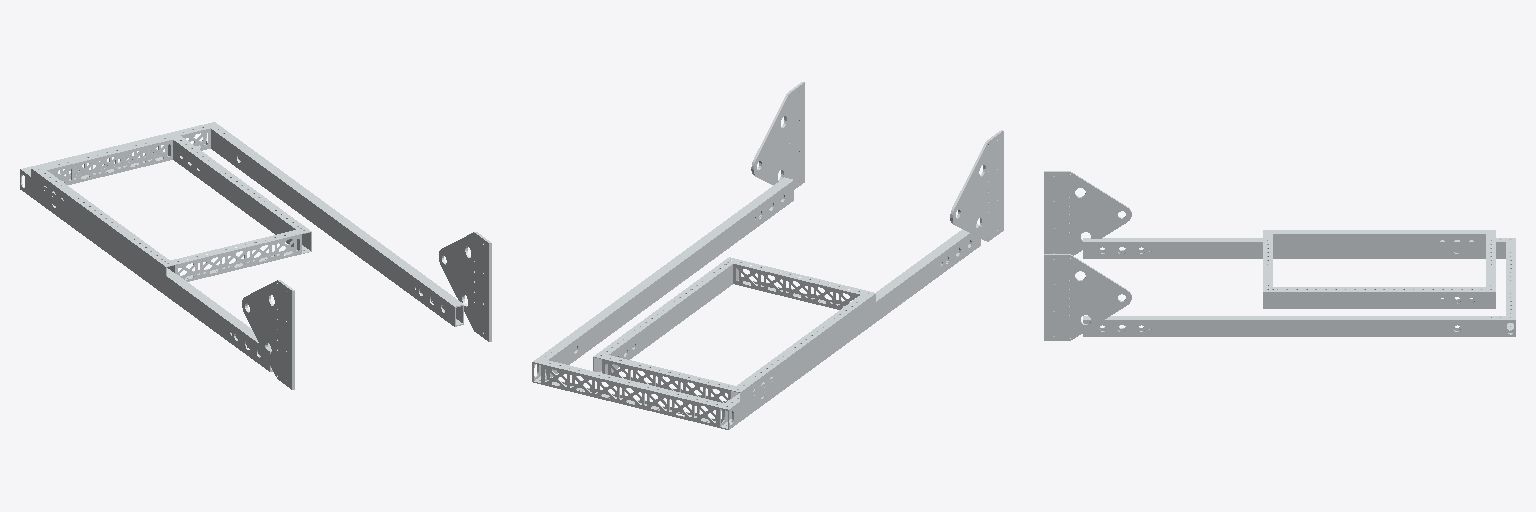
The robot description file, URDF, robot "Programming_Kinematics":
<?xml version="1.0" encoding="utf-8"?>
<!-- This URDF was automatically created by SolidWorks to URDF Exporter! Originally created by [author] ([email redacted]) 
     Commit Version: 1.6.0-4-g7f85cfe  Build Version: 1.6.7995.38578
     For more information, please see http://wiki.ros.org/sw_urdf_exporter -->
<robot
  name="Programming_Kinematics">
  <link
    name="base_link">
    <inertial>
      <origin
        xyz="-2.1853E-17 8.4117E-19 0.0848"
        rpy="0 0 0" />
      <mass
        value="1.2701" />
      <inertia
        ixx="0.0087772"
        ixy="5.9336E-21"
        ixz="2.1031E-19"
        iyy="0.0040745"
        iyz="2.0072E-05"
        izz="0.0047112" />
    </inertial>
    <visual>
      <origin
        xyz="0 0 0"
        rpy="0 0 0" />
      <geometry>
        <mesh
          filename="package://Programming_Kinematics/meshes/base_link.STL" />
      </geometry>
      <material
        name="">
        <color
          rgba="0.89804 0.91765 0.92941 1" />
      </material>
    </visual>
    <collision>
      <origin
        xyz="0 0 0"
        rpy="0 0 0" />
      <geometry>
        <mesh
          filename="package://Programming_Kinematics/meshes/base_link.STL" />
      </geometry>
    </collision>
  </link>
  <link
    name="main_mast">
    <inertial>
      <origin
        xyz="1.1158E-06 -9.0689E-05 0.46516"
        rpy="0 0 0" />
      <mass
        value="2.6303" />
      <inertia
        ixx="0.27136"
        ixy="-2.6617E-10"
        ixz="1.1486E-06"
        iyy="0.27079"
        iyz="-0.00010405"
        izz="0.0010919" />
    </inertial>
    <visual>
      <origin
        xyz="0 0 0"
        rpy="0 0 0" />
      <geometry>
        <mesh
          filename="package://Programming_Kinematics/meshes/main_mast.STL" />
      </geometry>
      <material
        name="">
        <color
          rgba="0.89804 0.91765 0.92941 1" />
      </material>
    </visual>
    <collision>
      <origin
        xyz="0 0 0"
        rpy="0 0 0" />
      <geometry>
        <mesh
          filename="package://Programming_Kinematics/meshes/main_mast.STL" />
      </geometry>
    </collision>
  </link>
  <joint
    name="base_link_to_main_mast"
    type="continuous">
    <origin
      xyz="0 0 0.2032"
      rpy="0 0 0" />
    <parent
      link="base_link" />
    <child
      link="main_mast" />
    <axis
      xyz="-1 0 0" />
    <limit
      lower="-3.1416"
      upper="3.1416"
      effort="0"
      velocity="1" />
  </joint>
  <link
    name="second_stage">
    <inertial>
      <origin
        xyz="-9.2515E-17 1.4977E-16 -0.20623"
        rpy="0 0 0" />
      <mass
        value="0.60003" />
      <inertia
        ixx="0.018663"
        ixy="-6.8095E-20"
        ixz="1.2704E-19"
        iyy="0.018527"
        iyz="-1.6631E-17"
        izz="0.00027326" />
    </inertial>
    <visual>
      <origin
        xyz="0 0 0"
        rpy="0 0 0" />
      <geometry>
        <mesh
          filename="package://Programming_Kinematics/meshes/second_stage.STL" />
      </geometry>
      <material
        name="">
        <color
          rgba="0.89804 0.91765 0.92941 1" />
      </material>
    </visual>
    <collision>
      <origin
        xyz="0 0 0"
        rpy="0 0 0" />
      <geometry>
        <mesh
          filename="package://Programming_Kinematics/meshes/second_stage.STL" />
      </geometry>
    </collision>
  </link>
  <joint
    name="main_mast_to_second_stage"
    type="continuous">
    <origin
      xyz="0 0 0.8763"
      rpy="0 0 0" />
    <parent
      link="main_mast" />
    <child
      link="second_stage" />
    <axis
      xyz="1 0 0" />
    <limit
      lower="-3.1416"
      upper="3.1416"
      effort="0"
      velocity="1" />
  </joint>
</robot>

--- Facts derived from the render (not from the file) ---
Views: 3 orthographic renders of the robot side by side, from view 1: azimuth 30°, elevation 25°; view 2: azimuth 150°, elevation 25°; view 3: azimuth 270°, elevation 25°.
Robot: Programming_Kinematics — 3 links, 2 joints (2 continuous); root link base_link; default pose: all joints at 0.
Visible links, largest first — view 1: second_stage, main_mast, base_link; view 2: main_mast, second_stage, base_link; view 3: main_mast, base_link, second_stage.
Boxes of the visible links, box(x1,y1,x2,y2) form: second_stage: box(31, 133, 311, 286); main_mast: box(20, 122, 463, 371); base_link: box(242, 232, 491, 389); main_mast: box(532, 177, 980, 429); second_stage: box(593, 257, 875, 412); base_link: box(751, 82, 1003, 241); main_mast: box(1083, 238, 1515, 336); base_link: box(1044, 171, 1131, 340); second_stage: box(1263, 230, 1495, 308).
Bounding box of the posed robot: 20.53 × 48.5 × 9.75 m (x, y, z).
3 mesh visuals loaded from 3 distinct referenced files (3 binary STL).